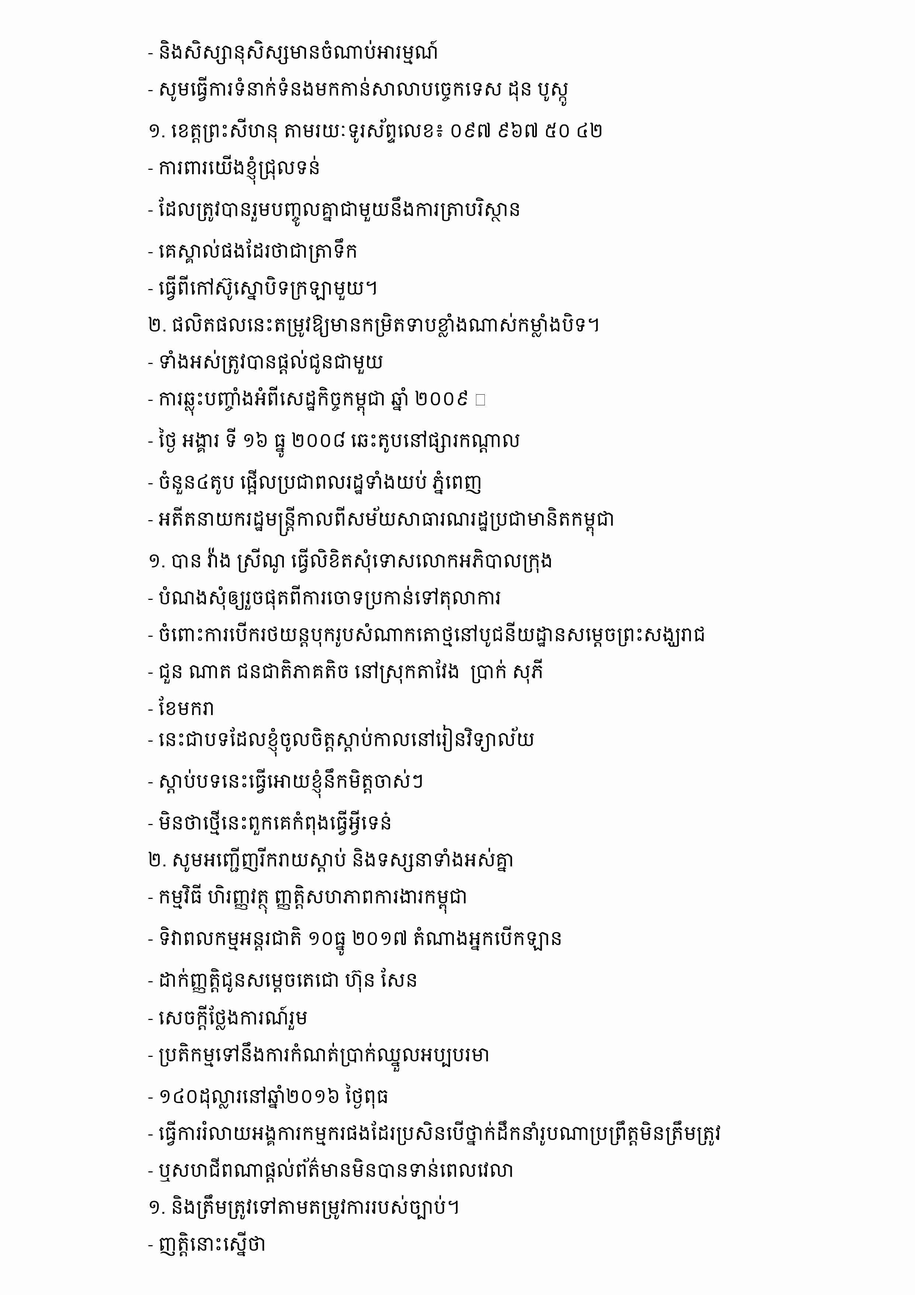text: (148, 1120, 726, 1146), (148, 506, 620, 536), (148, 622, 711, 647), (148, 925, 568, 956), (148, 76, 574, 106), (148, 725, 540, 757), (148, 196, 526, 227), (148, 427, 525, 458), (148, 118, 608, 143), (148, 313, 605, 337), (148, 547, 558, 573), (148, 1042, 495, 1072), (148, 386, 492, 416), (148, 659, 549, 684), (148, 884, 473, 914), (148, 1157, 519, 1183), (148, 847, 519, 872), (148, 585, 506, 610), (148, 469, 487, 495), (148, 768, 429, 798), (148, 1194, 465, 1220), (148, 40, 444, 65), (148, 968, 423, 993), (148, 1083, 394, 1109), (148, 810, 397, 835), (148, 275, 383, 300), (148, 350, 389, 374), (148, 238, 363, 264), (148, 155, 325, 185), (148, 1005, 313, 1030), (148, 1231, 271, 1257), (148, 696, 220, 715)
